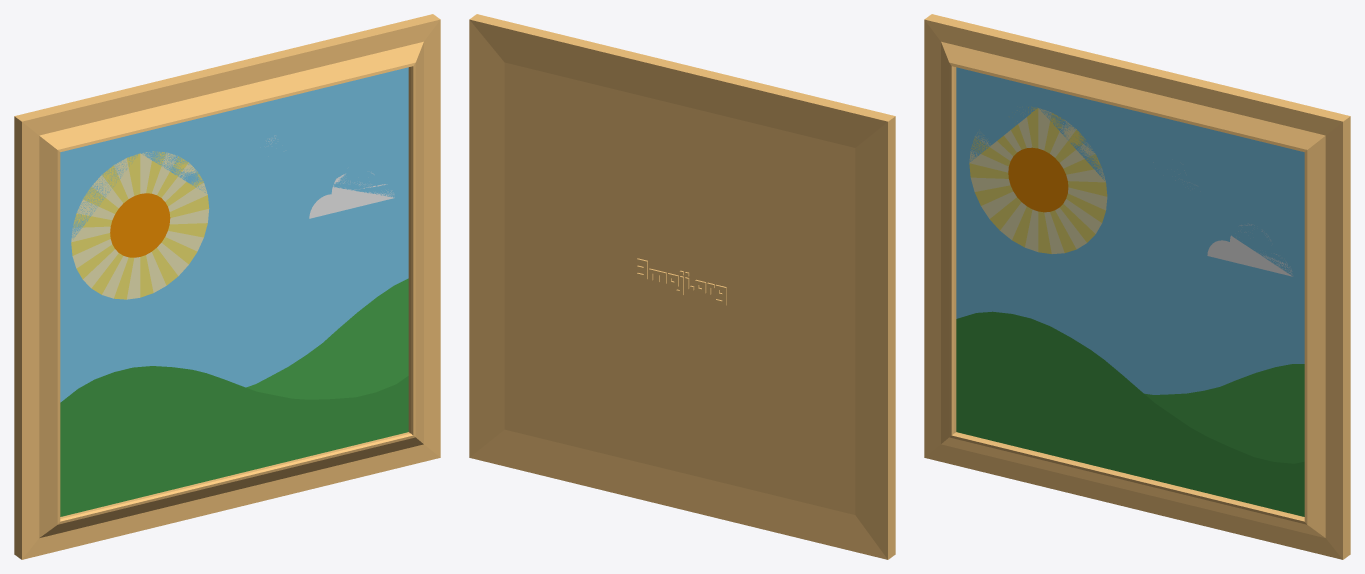
File: framed_picture.fbx
The picture shows the model from 3 angles, left to right: view 1: azimuth 30°, elevation 25°; view 2: azimuth 150°, elevation 25°; view 3: azimuth 330°, elevation 25°; orthographic projection.
Parts seen in each view (by area): view 1: Plane.321; view 2: Plane.321; view 3: Plane.321.
Boxes of the visible parts, x1,y1,x2,y2 form: Plane.321: [14, 14, 440, 559]; Plane.321: [469, 14, 895, 559]; Plane.321: [924, 14, 1350, 559].
Bounding box in the file's own units: 239 × 239 × 13.01.
1 material, 1 textured.
